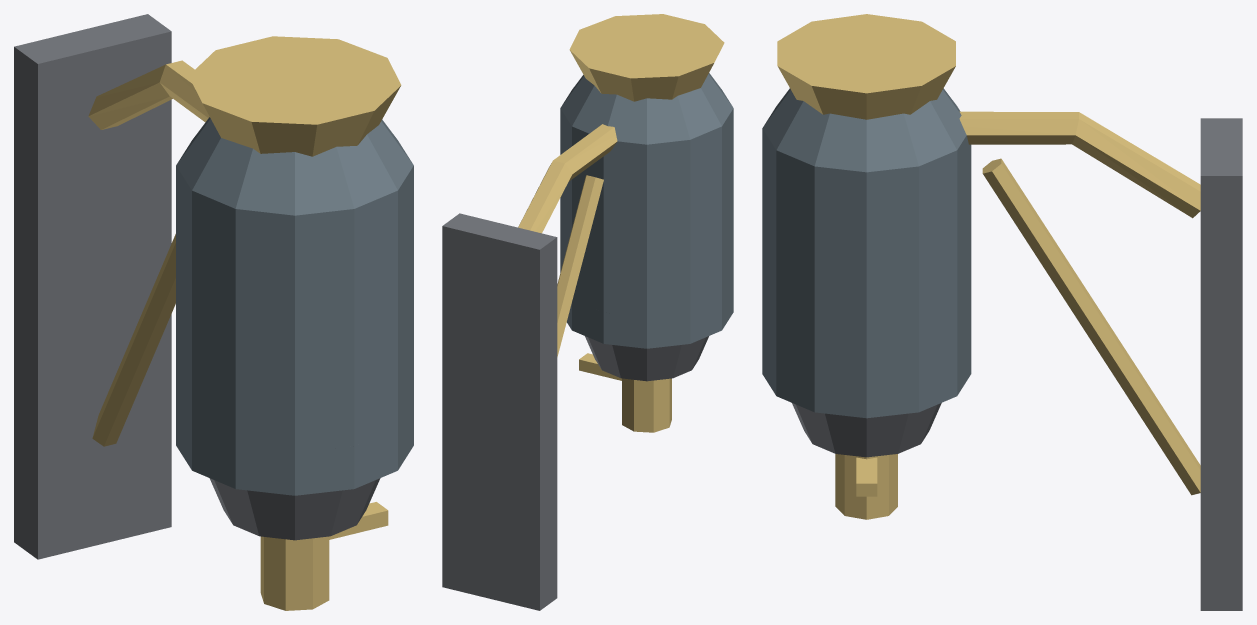
Rendered from steampunk-airship-dock-and-workshop-gas-lantern-afc5ebc9.glb.
3 renders of one model, left to right at view 1: azimuth 30°, elevation 25°; view 2: azimuth 150°, elevation 25°; view 3: azimuth 270°, elevation 25°, orthographic. The views are drawn at different scales.
Visible parts, largest first — view 1: gas-lantern; view 2: gas-lantern; view 3: gas-lantern.
Boxes of the visible parts, left/top/right/bottom form: gas-lantern: left=14, top=14, right=413, bottom=610; gas-lantern: left=442, top=14, right=733, bottom=610; gas-lantern: left=762, top=14, right=1242, bottom=610.
Size of the model in its own units: 0.2 by 0.5588 by 0.46.
